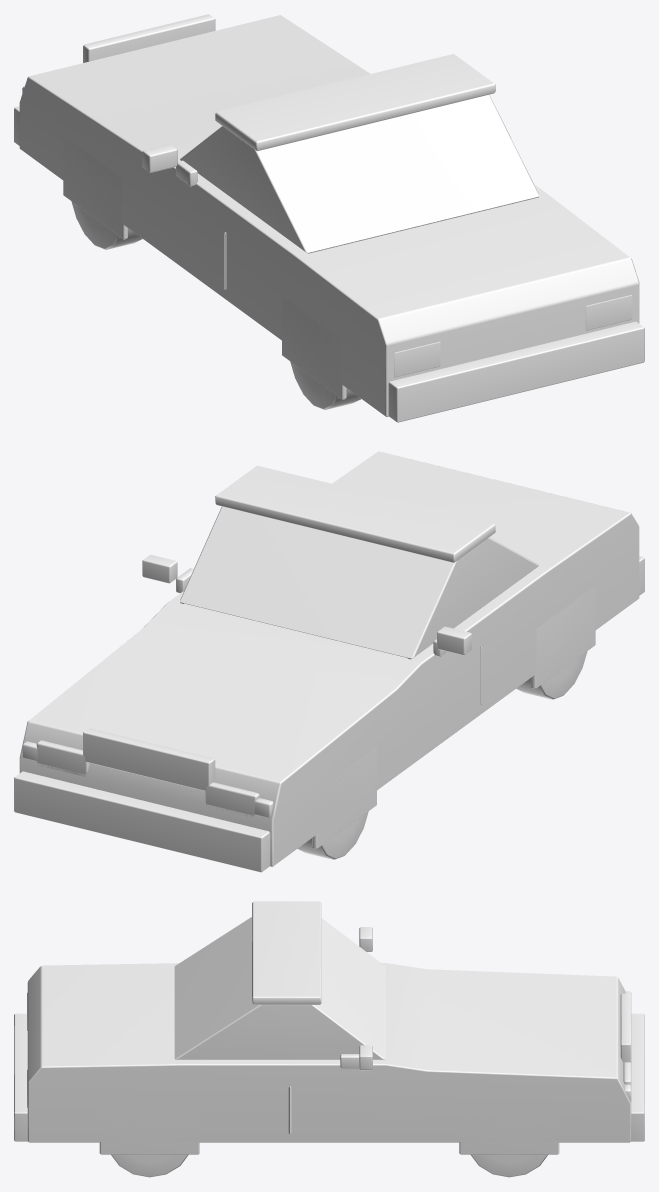
Rendered from sedan.glb.
3 views of the same model, one above another, from view 1: azimuth 30°, elevation 25°; view 2: azimuth 150°, elevation 25°; view 3: azimuth 270°, elevation 25° (orthographic). The views are drawn at different scales.
Parts seen in each view (by area): view 1: Body.001, Glass.001, Trim.001, Lamps.001, Wheel_FL.001, Wheel_RL.001; view 2: Body.001, Glass.001, Trim.001, Lamps.001, Wheel_RL.001, Wheel_FL.001; view 3: Body.001, Glass.001, Trim.001, Wheel_FR.001, Wheel_RR.001.
Boxes of the visible parts, x1,y1,x2,y2 form: Body.001: (19, 15, 639, 417); Glass.001: (180, 95, 538, 253); Trim.001: (14, 14, 644, 422); Lamps.001: (22, 86, 632, 377); Wheel_FL.001: (71, 201, 142, 249); Wheel_RL.001: (290, 361, 360, 409); Body.001: (19, 451, 639, 866); Glass.001: (180, 506, 538, 659); Trim.001: (14, 554, 644, 872); Lamps.001: (22, 740, 273, 817); Wheel_RL.001: (516, 651, 587, 699); Wheel_FL.001: (297, 811, 368, 859); Body.001: (27, 901, 631, 1142); Glass.001: (174, 917, 385, 1059); Trim.001: (14, 927, 644, 1154); Wheel_FR.001: (470, 1154, 547, 1177); Wheel_RR.001: (111, 1154, 188, 1177).
Size of the model in its own units: 2.26 by 1.45 by 4.65.
Materials: 1 (1 with a texture image).
